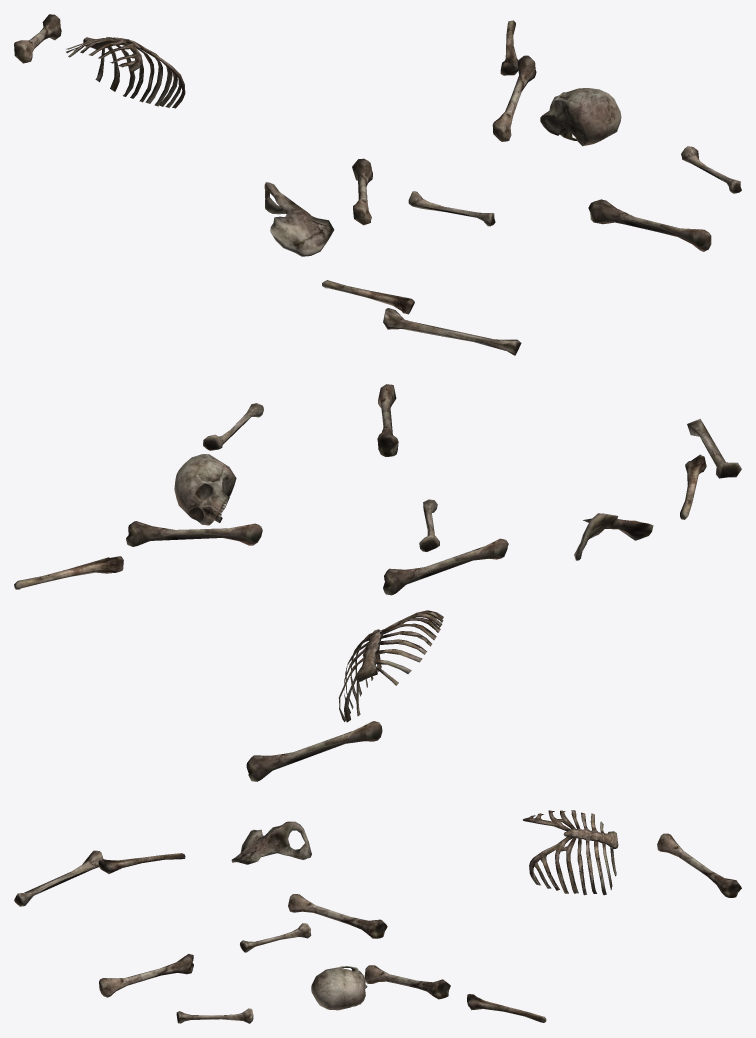
The model's file is AEG023_934out-transformed.glb.
The picture shows the model from 3 angles, top to bottom: view 1: azimuth 30°, elevation 25°; view 2: azimuth 150°, elevation 25°; view 3: azimuth 270°, elevation 25°; orthographic projection. The views are drawn at different scales.
Parts seen in each view (by area): view 1: default; view 2: default; view 3: default.
Boxes of the visible parts, left/top/right/bottom form: default: left=14, top=14, right=741, bottom=355; default: left=14, top=384, right=741, bottom=781; default: left=14, top=810, right=741, bottom=1023.
Bounding box in the file's own units: 1.86 × 0.3671 × 3.4.
Materials: 1 (1 with a texture image).
